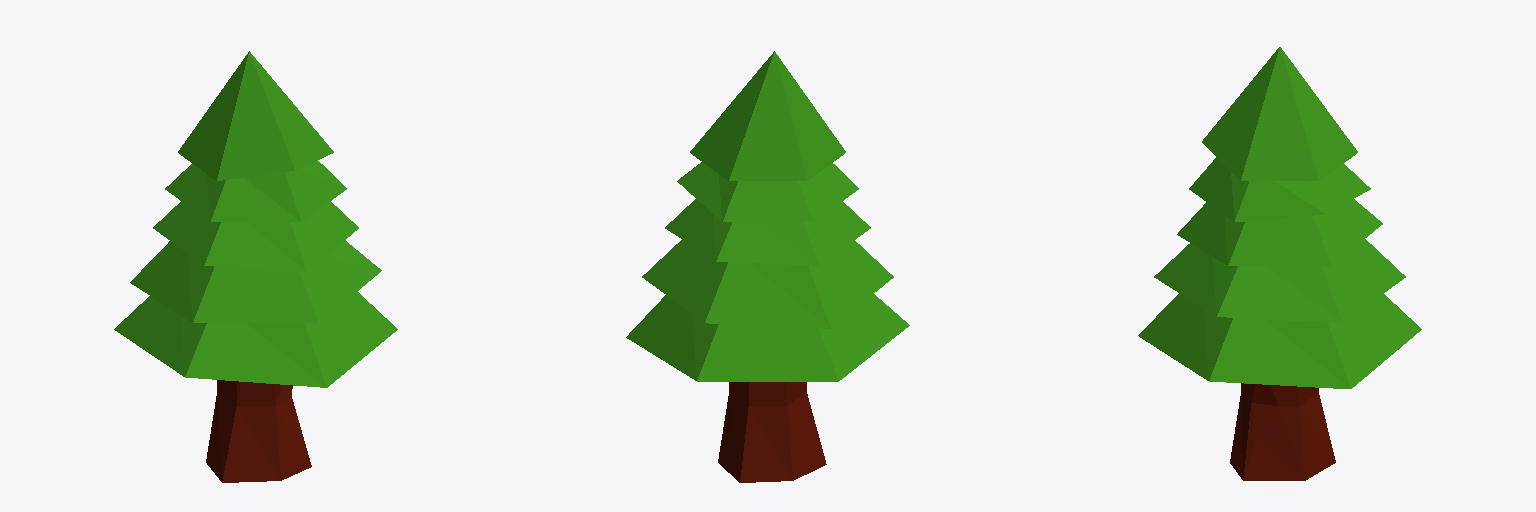
The model's file is Tree.obj.
3 renders of one model, left to right at view 1: azimuth 30°, elevation 25°; view 2: azimuth 150°, elevation 25°; view 3: azimuth 270°, elevation 25°, orthographic.
Parts seen in each view (by area): view 1: Tree_Cylinder.001; view 2: Tree_Cylinder.001; view 3: Tree_Cylinder.001.
Boxes of the visible parts, <box> form: Tree_Cylinder.001: <box>114,51,397,482</box>; Tree_Cylinder.001: <box>626,51,909,482</box>; Tree_Cylinder.001: <box>1138,47,1421,480</box>.
Bounding box in the file's own units: 1.52 × 2.81 × 1.76.